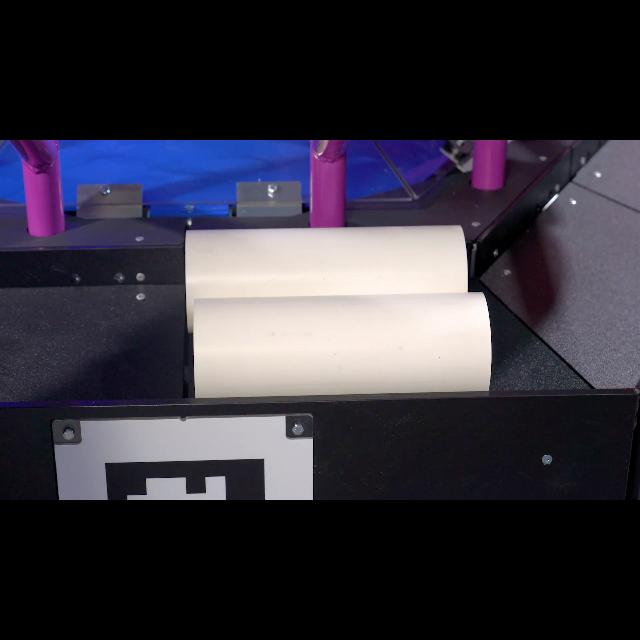CORAL: (193, 292, 492, 398), (185, 224, 470, 332)
